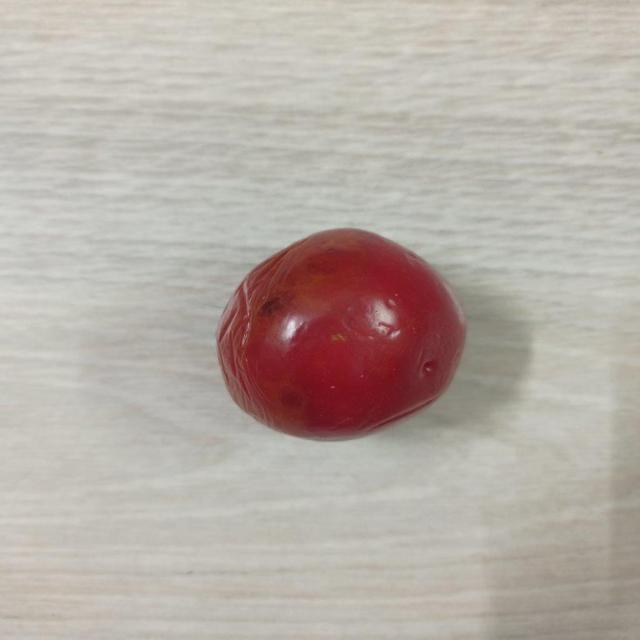Rotten: (216, 225, 466, 441)
